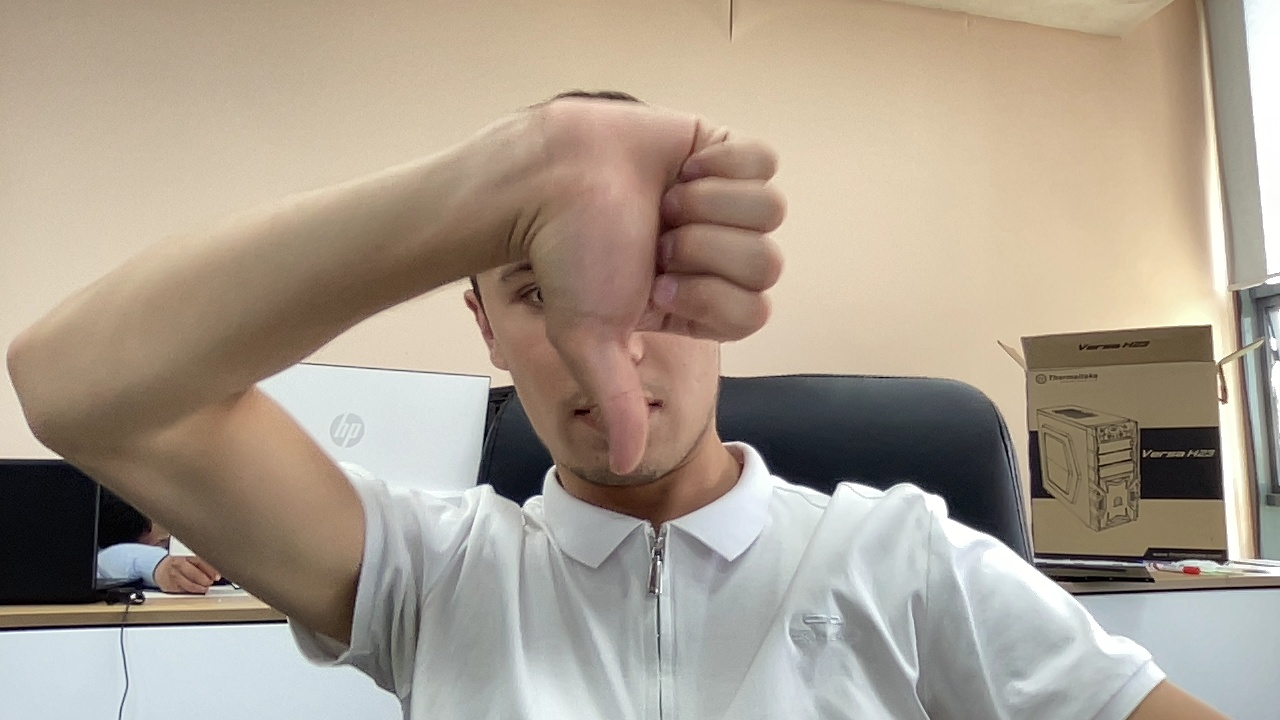thumbdown: (500, 83, 784, 519)
